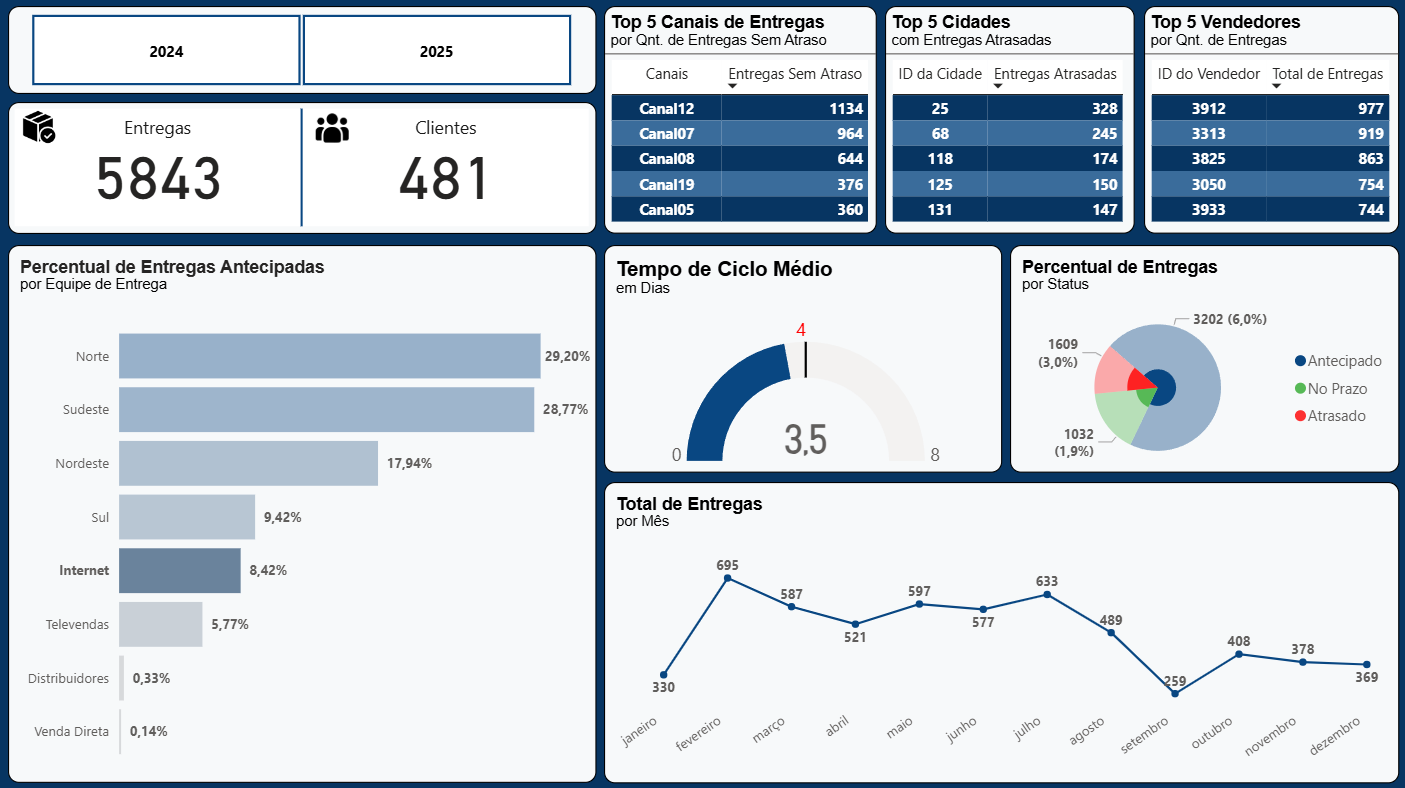

The page's visual inventory and layout, read from the dashboard file:
{"tool":"powerbi","page":{"name":"Dashboard","canvas":[1280,720],"ordinal":0},"visuals":[{"type":"tableEx","title":"Top 5 Canais de Entregas","fields":{"Values":["Logistica.Canal_Entrega","Tabela.Entregas_no_Prazo"]},"box":[550,7.3,248.2,207.3],"z":0},{"type":"barChart","title":"Percentual de Entregas Antecipadas","fields":{"Category":["Logistica.Equipe_Entrega"],"Y":["Medidas.Entregas_Antecipadas"]},"box":[8.2,224.5,535.5,489.1],"z":1000},{"type":"lineChart","title":"Total de Entregas","fields":{"Y":["Medidas.Total_Entregas"],"Category":["Logistica.Data_Entrega_Realizada.Variation.Hierarquia de datas.Mês"]},"box":[550,440,722.7,273.6],"z":2000},{"type":"tableEx","title":"Top 5 Vendedores","fields":{"Values":["Logistica.ID_Vendedor","Tabela.Total_Entregas"]},"box":[1040.9,7.3,231.8,207.3],"z":3000},{"type":"tableEx","title":"Top 5 Cidades","fields":{"Values":["Logistica.ID_Cidade","Tabela.Entragas_Atrasadas"]},"box":[805.5,7.3,227.3,207.3],"z":4000},{"type":"pieChart","title":"Percentual de Entregas","fields":{"Category":["Logistica.Status_Entrega"],"Y":["Divide(CountNonNull(Logistica.Status_Entrega), ScopedEval(CountNonNull(Logistica.Status_Entrega), []))"]},"box":[919.1,224.5,353.6,207.3],"z":5000},{"type":"gauge","title":"Tempo de Ciclo Médio","fields":{"Y":["Avg(Logistica.Dias_Entrega)"]},"box":[550,224.5,361.8,207.3],"z":6000},{"type":"cardVisual","title":"Entregas","fields":{"Data":["Medidas.Total_Entregas","Count(Logistica.ID_Cliente)"]},"box":[8.2,94.9,535.5,119.6],"z":7000,"group":"g1"},{"type":"slicer","title":"Selecione o Período","fields":{"Values":["Logistica.Data_Entrega_Realizada.Variation.Hierarquia de datas.Ano"]},"box":[8.2,7.3,534.5,80],"z":8000},{"type":"image","box":[8.2,94.5,55.4,46],"z":9000,"group":"g1"},{"type":"image","box":[280.6,98.1,44.7,39.7],"z":10000,"group":"g1"},{"type":"group","id":"g1","title":"Grupo 1","box":[8.2,94.5,535.5,120],"z":10001}]}

Visuals, with their boxes in screenshot pixels (x1, y1, x2, y2), scaled from the page's 1280x720 canvas onto the 1405x788 screenshot:
"Top 5 Canais de Entregas" tableEx: select_region(604, 8, 876, 235)
"Percentual de Entregas Antecipadas" barChart: select_region(9, 246, 597, 781)
"Total de Entregas" lineChart: select_region(604, 482, 1397, 781)
"Top 5 Vendedores" tableEx: select_region(1143, 8, 1397, 235)
"Top 5 Cidades" tableEx: select_region(884, 8, 1134, 235)
"Percentual de Entregas" pieChart: select_region(1009, 246, 1397, 473)
"Tempo de Ciclo Médio" gauge: select_region(604, 246, 1001, 473)
"Entregas" cardVisual: select_region(9, 104, 597, 235)
"Selecione o Período" slicer: select_region(9, 8, 596, 96)
image: select_region(9, 103, 70, 154)
image: select_region(308, 107, 357, 151)
"Grupo 1" group: select_region(9, 103, 597, 235)
